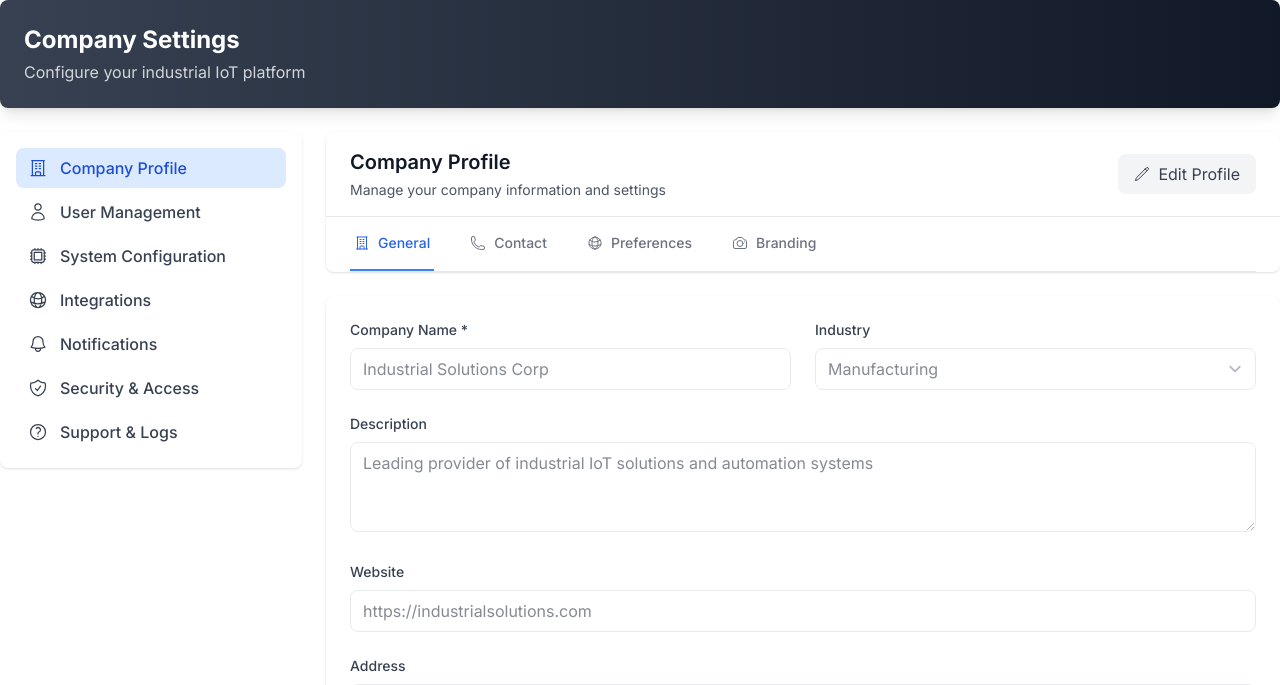
Test case: CompanySettings › shows placeholder for support section
Click the button "Support & Logs": (151, 432) 16,412 -> 286,452
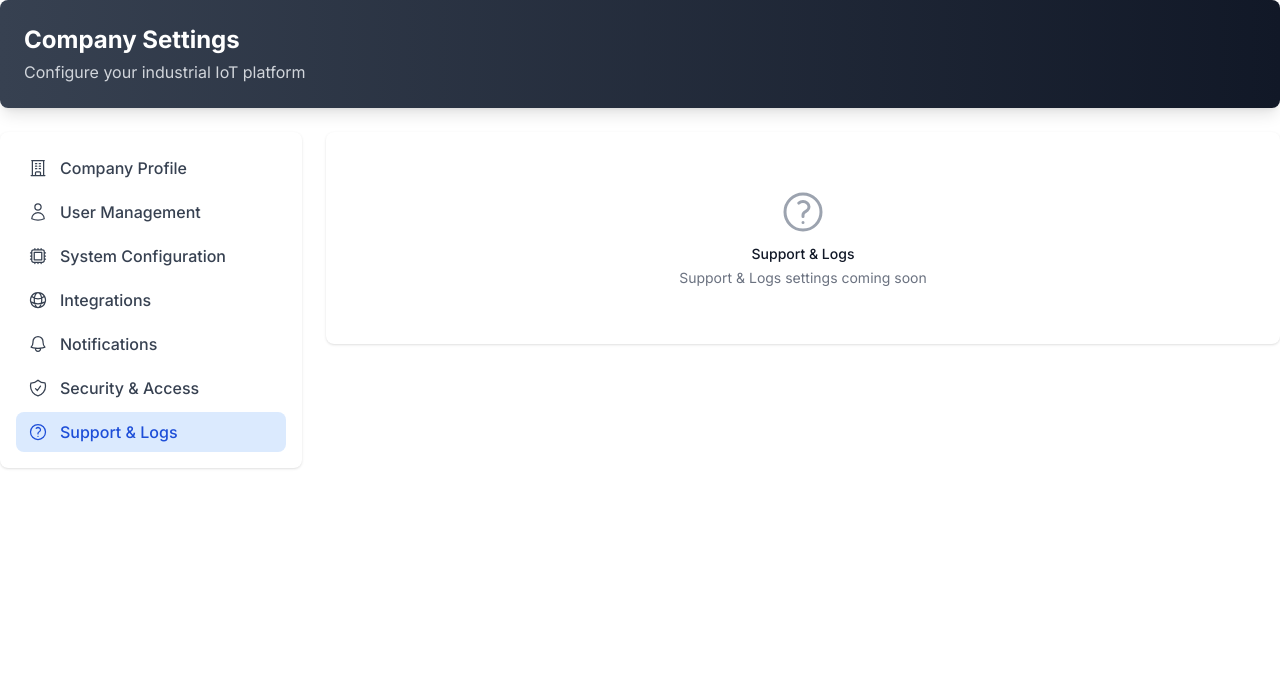
Check: the text "Support & Logs settings coming soon" is shown, box 679,269 -> 927,286
